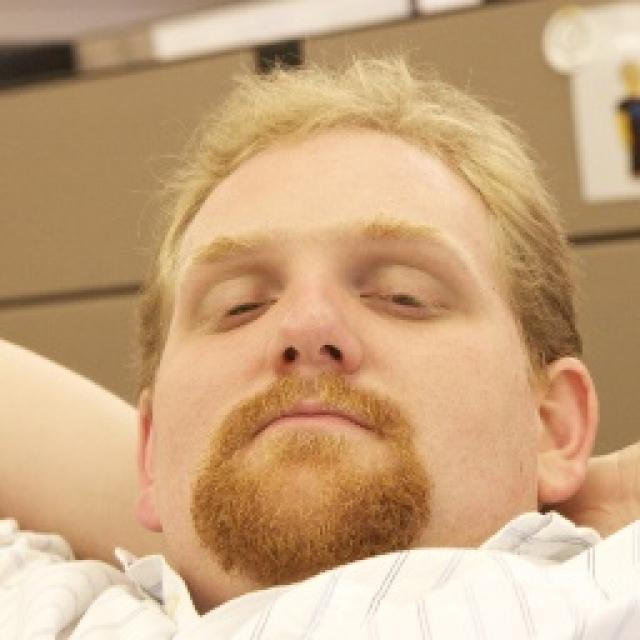earlobe: (535, 440, 589, 505), (137, 469, 161, 534)
eye: (362, 281, 455, 317), (204, 293, 275, 322)
nose: (269, 357, 353, 400)
wholeear: (535, 356, 601, 506), (135, 386, 163, 534)
